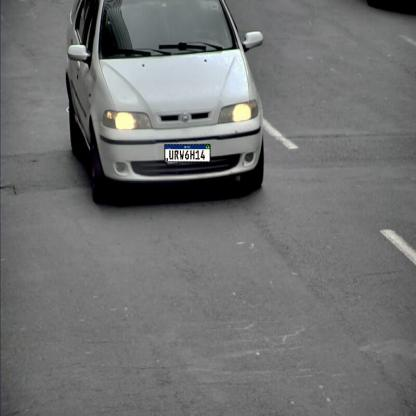PlacaM: (164, 144, 211, 162)
